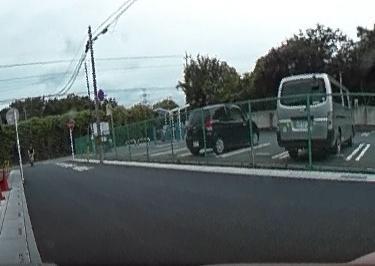person: (26, 141, 35, 163)
